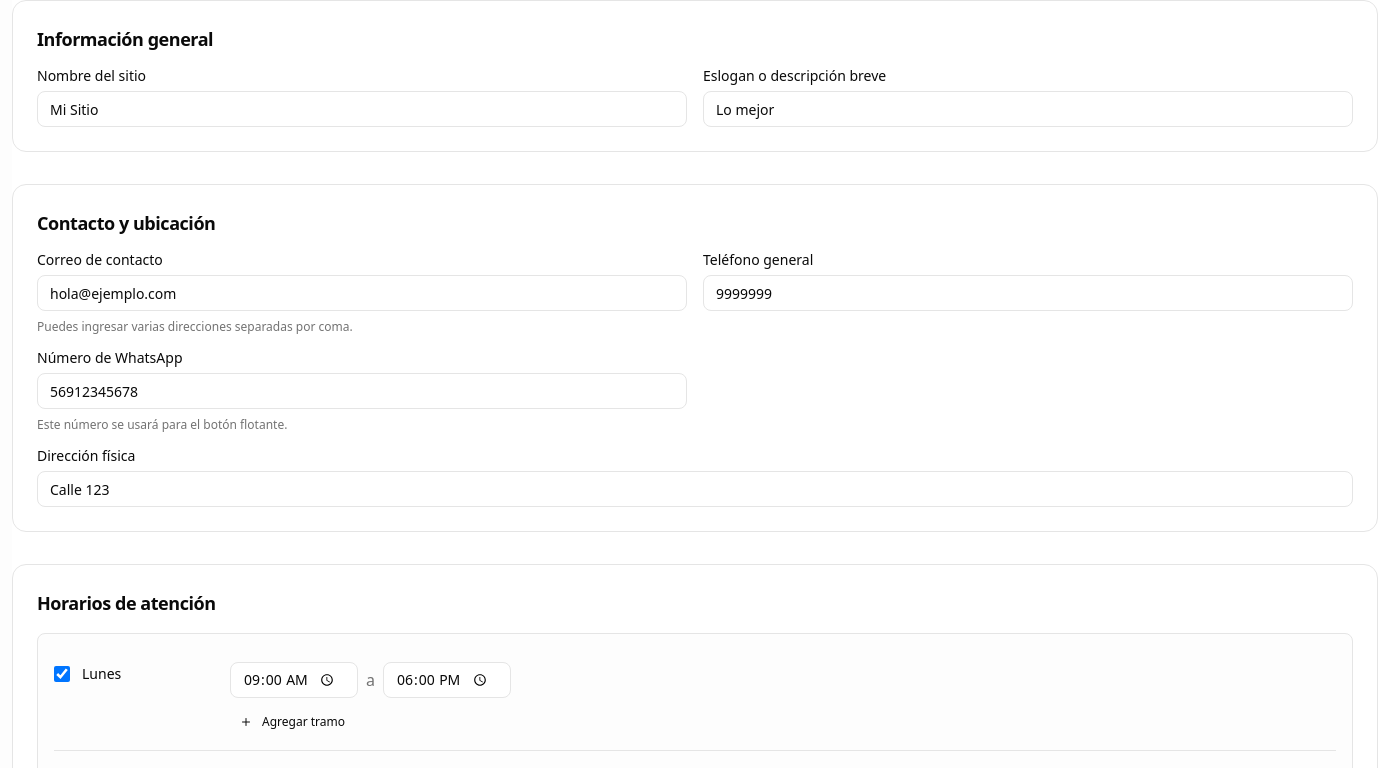
Scenario: BusinessSettingsForm › un correo sin arroba no deja guardar y muestra error
Replace the text in the field labelled "Correo de contacto" with "correo-invalido" at (362, 293), box [37,275,687,311]
(page scrolled)
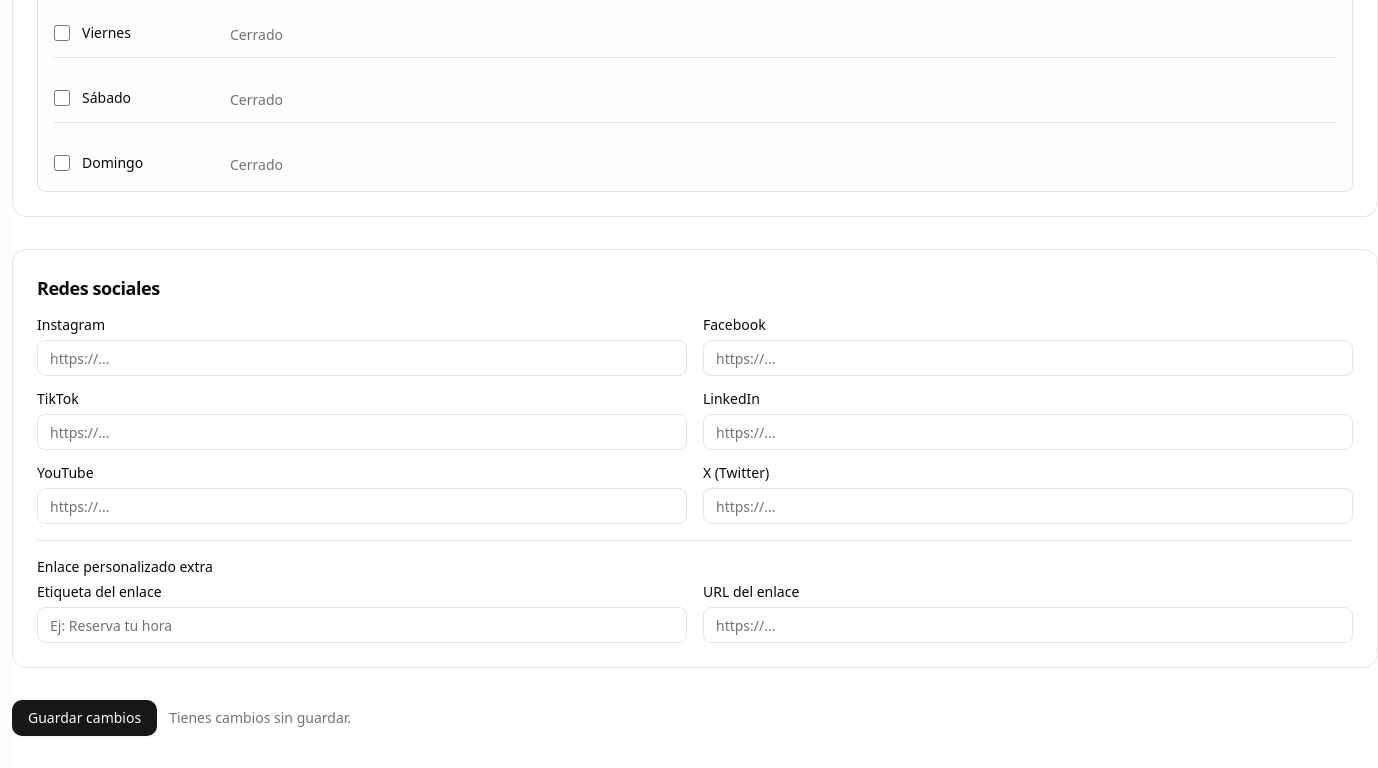
Click the button "Guardar cambios" at (85, 718), box [12,700,157,736]
(page scrolled)
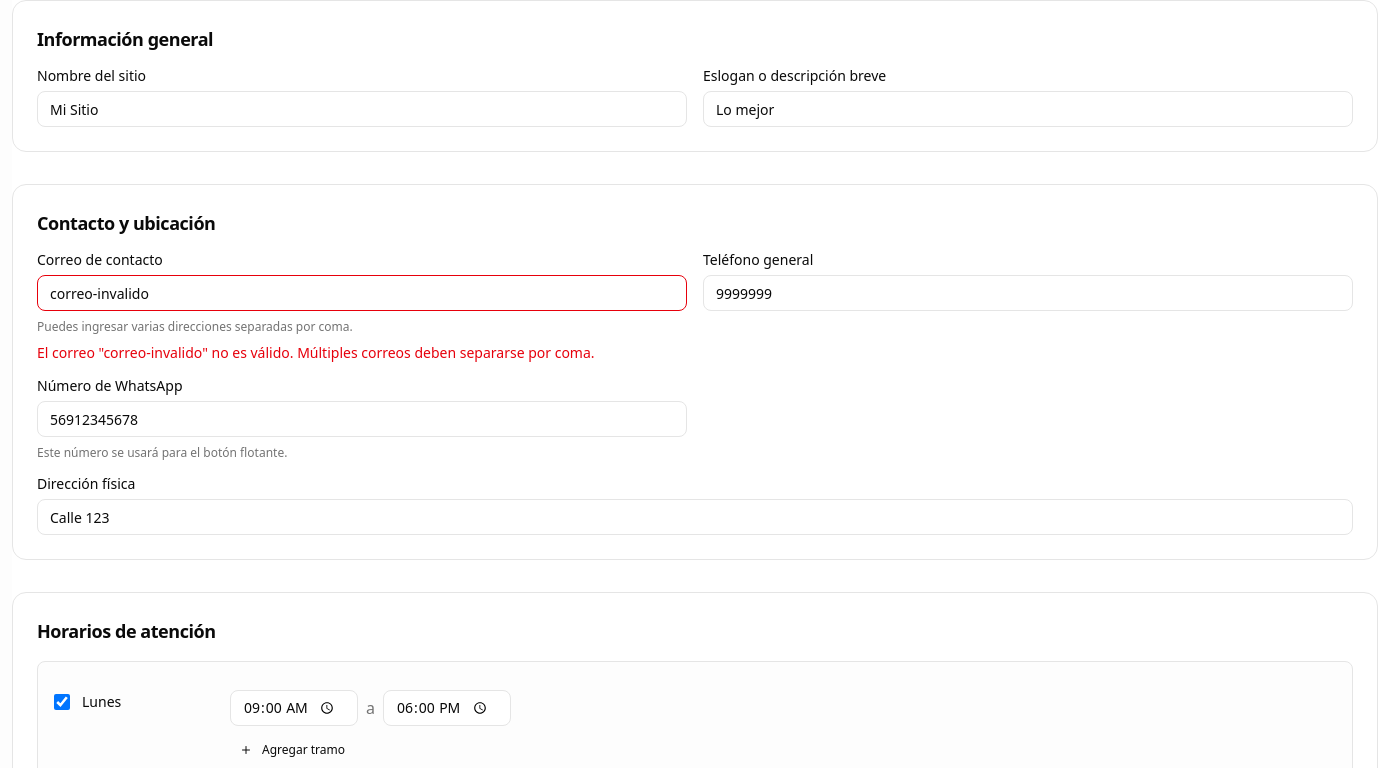
Check: the text "El correo \"correo-invalido\" no es válido" is shown, box [37,343,595,362]
